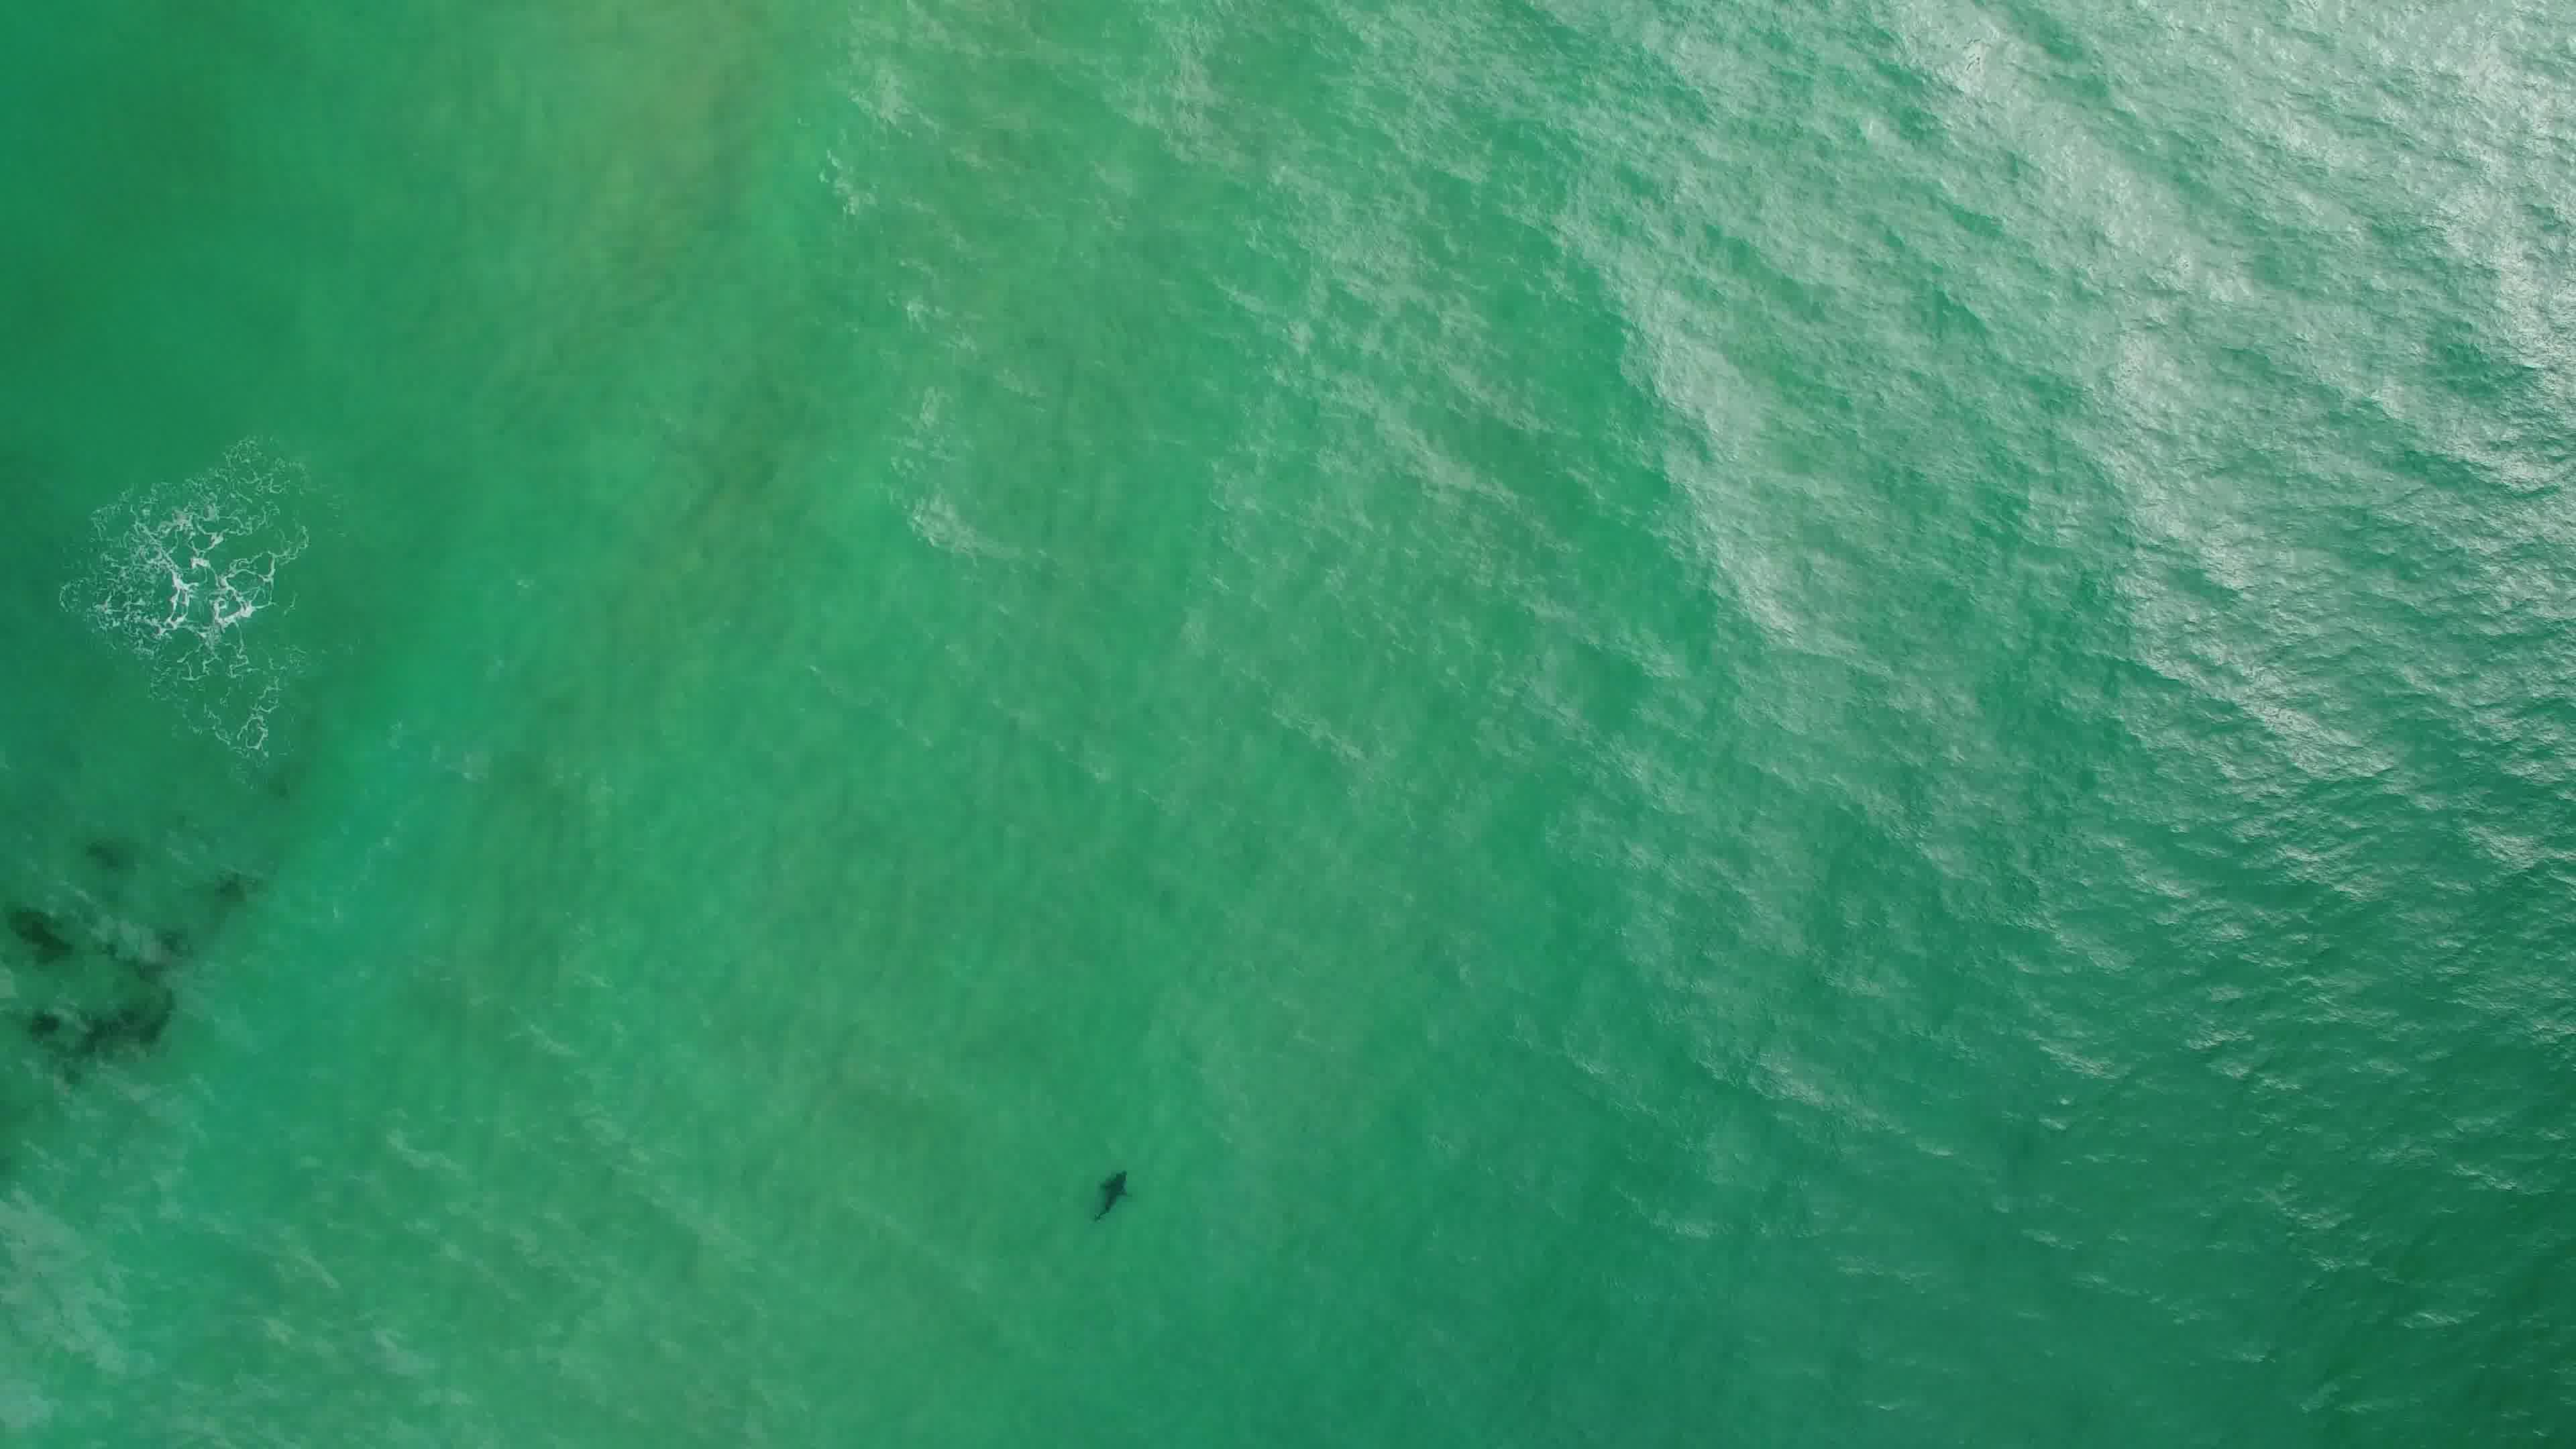shark: (1090, 1166, 1136, 1224)
